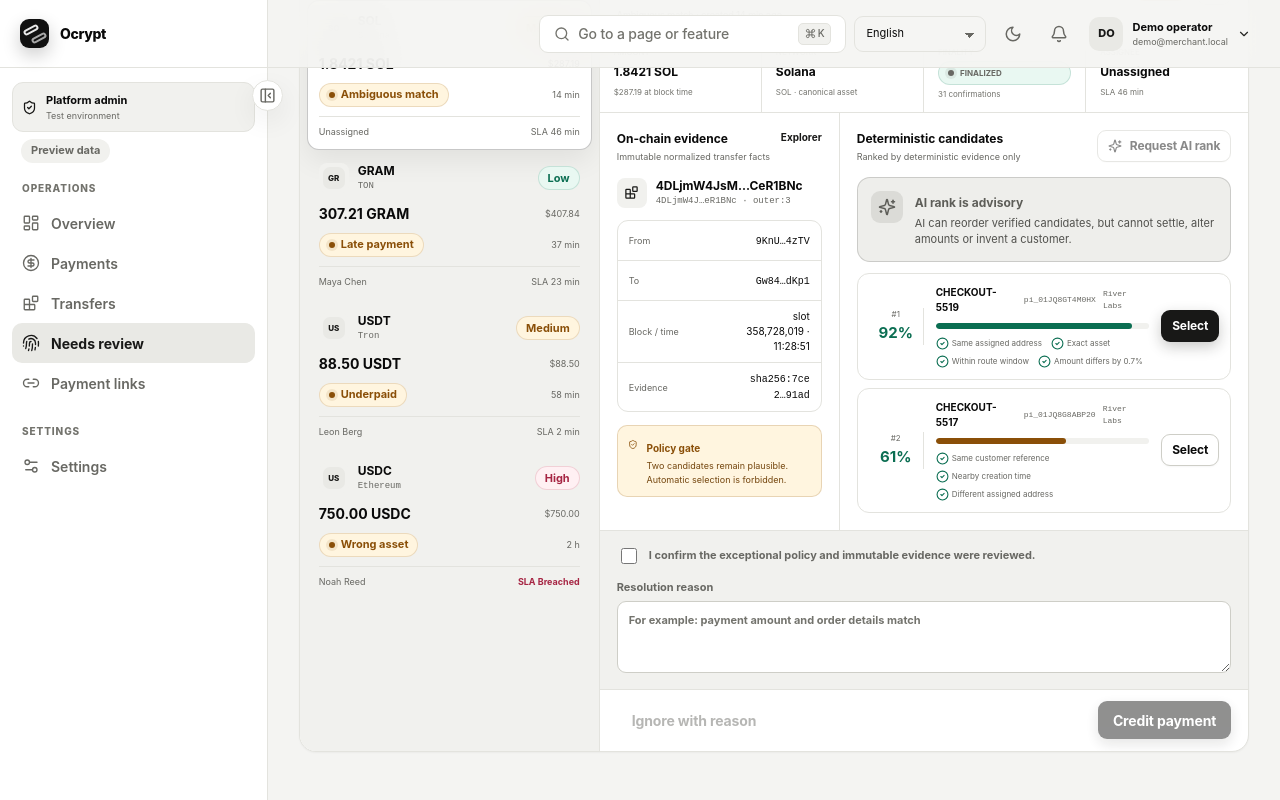
Test: admin application › removes the credit action immediately after a preview resolution is submitted
The width and height of the screenshot is (1280, 800).
(page scrolled)
Click the checkbox with test id "accept-cross-asset": (629, 556) top-left (621, 548), bottom-right (637, 564)
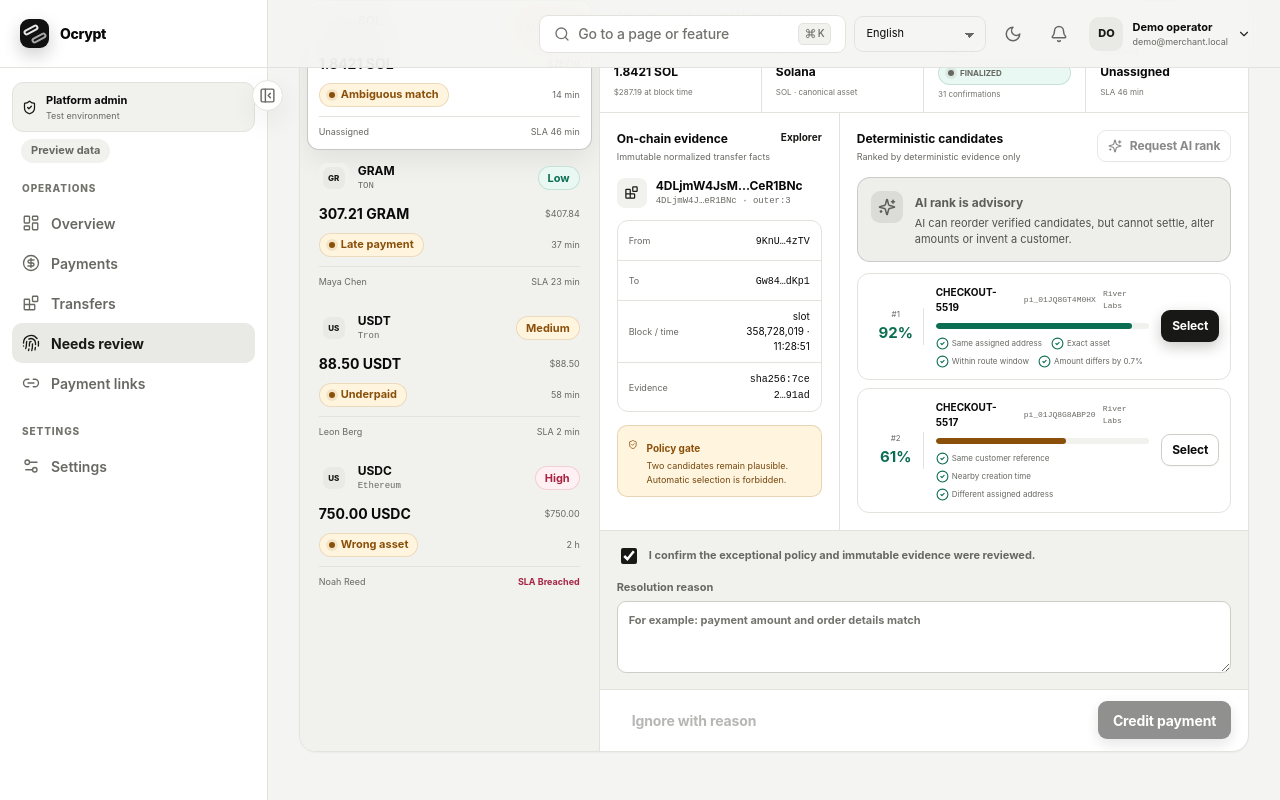
In the text box with test id "resolution-reason": (924, 637) top-left (617, 602), bottom-right (1231, 673), type "Evidence and policy exception reviewed"
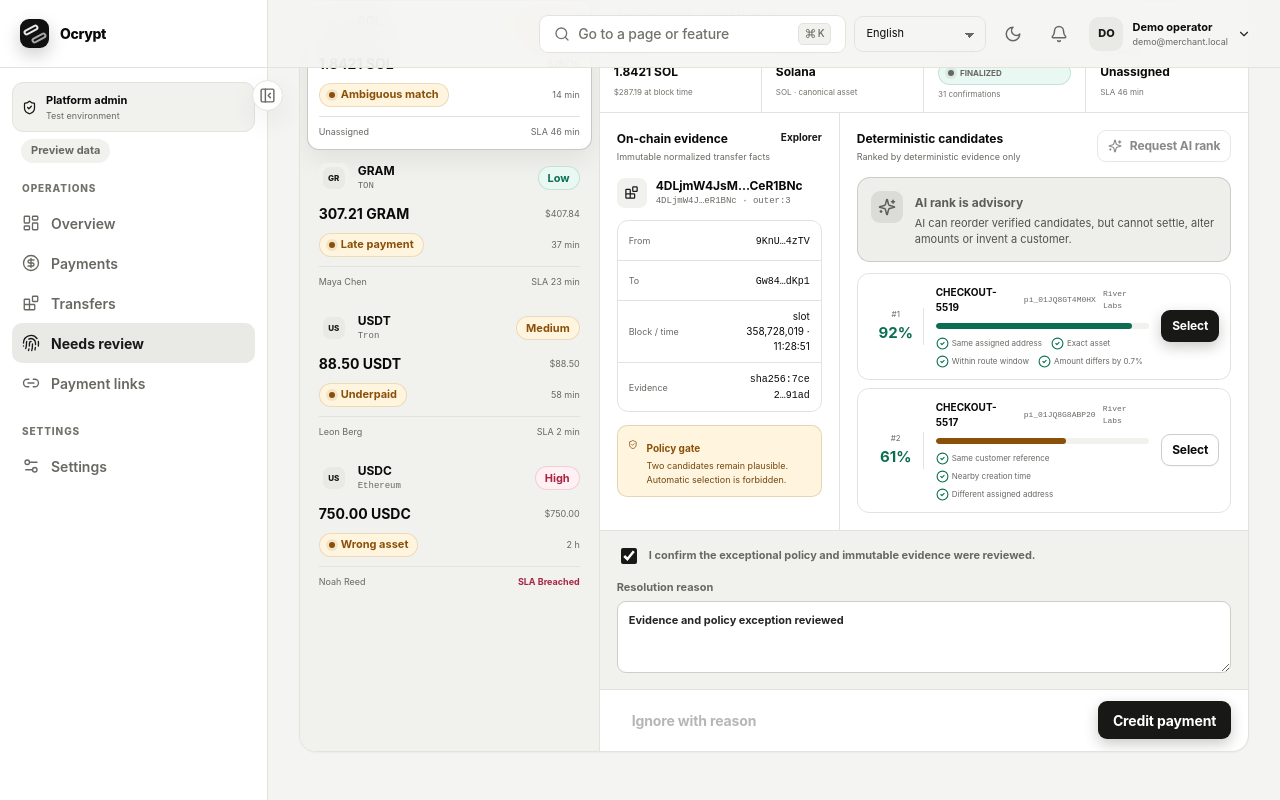
Now the button with test id "request-resolution" is enabled
Click the button with test id "request-resolution": (1165, 720) top-left (1098, 702), bottom-right (1231, 740)
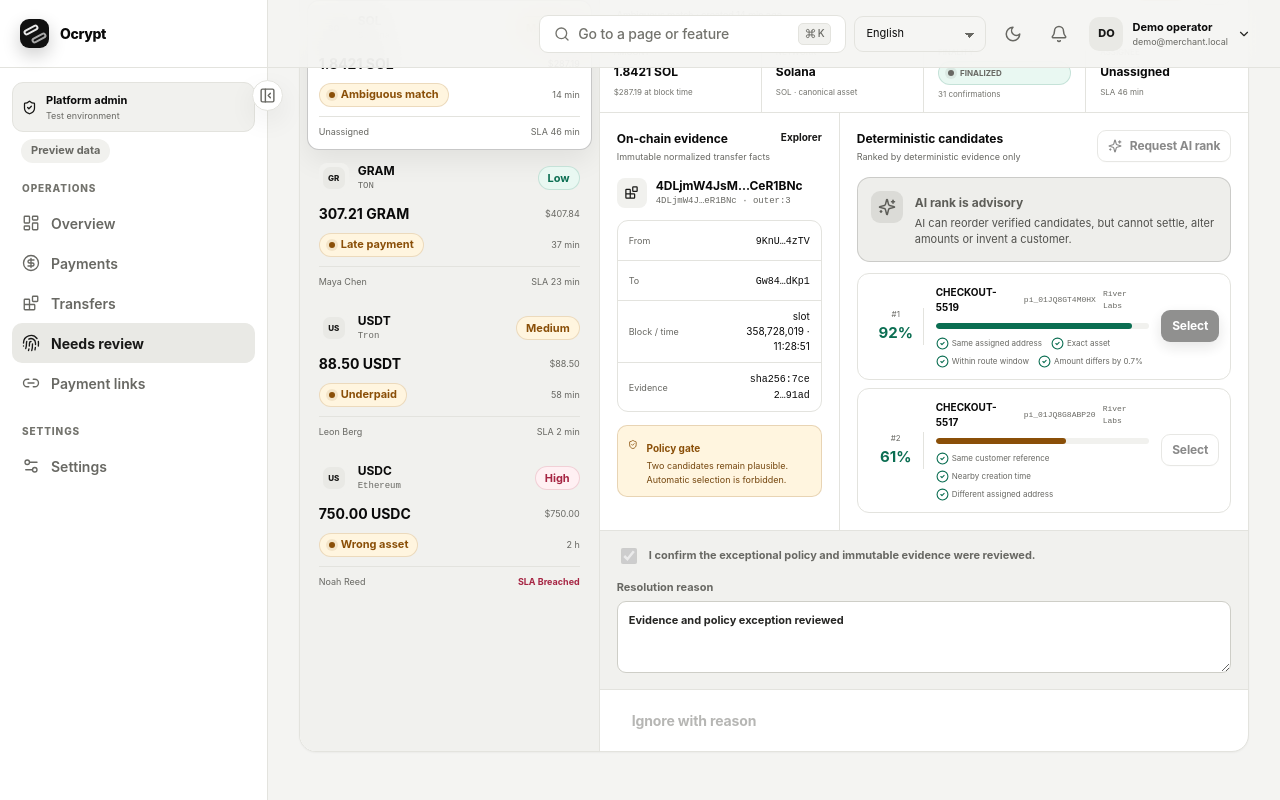
Now the button "Credit payment" is gone
Now the checkbox with test id "accept-cross-asset" is disabled, box top-left (621, 548), bottom-right (637, 564)
Now the button with test id "request-resolution" is gone
